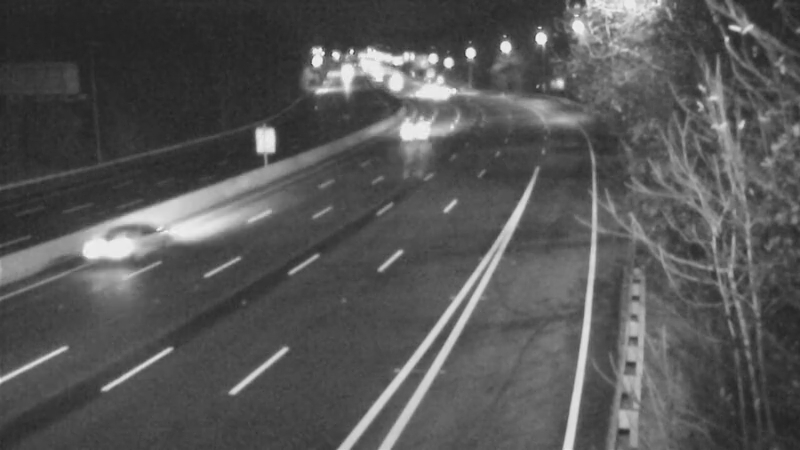vehicle: (72, 207, 152, 287), (405, 70, 455, 120), (425, 66, 475, 116), (389, 103, 439, 153)
